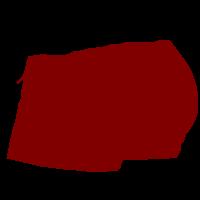mutande: (6, 40, 198, 172)
